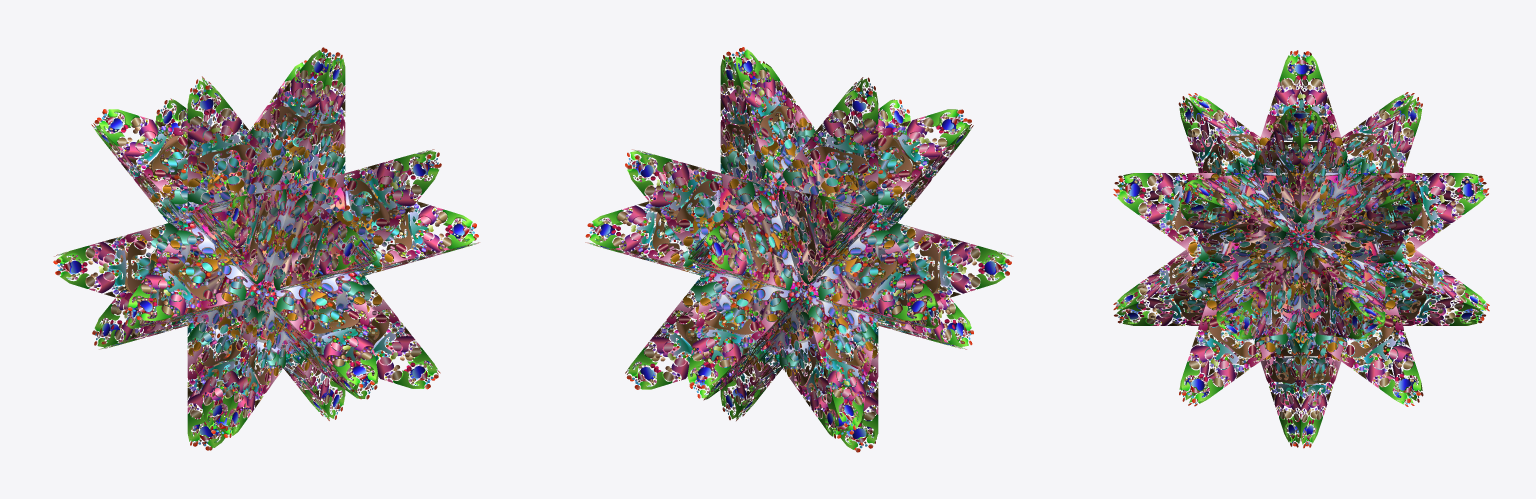
Rendered from GreatStellatedDodecahedron12.obj.
3 renders of one model, left to right at view 1: azimuth 30°, elevation 25°; view 2: azimuth 150°, elevation 25°; view 3: azimuth 270°, elevation 25°, orthographic. The views are drawn at different scales.
Bounding box in the file's own units: 1 × 1 × 1.
Materials: 1 (1 with a texture image).
